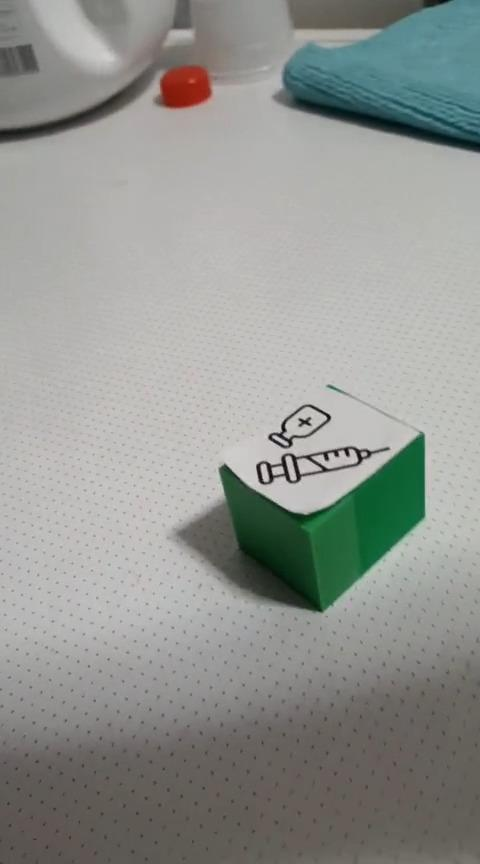antiseptic cream: (216, 381, 427, 612)
